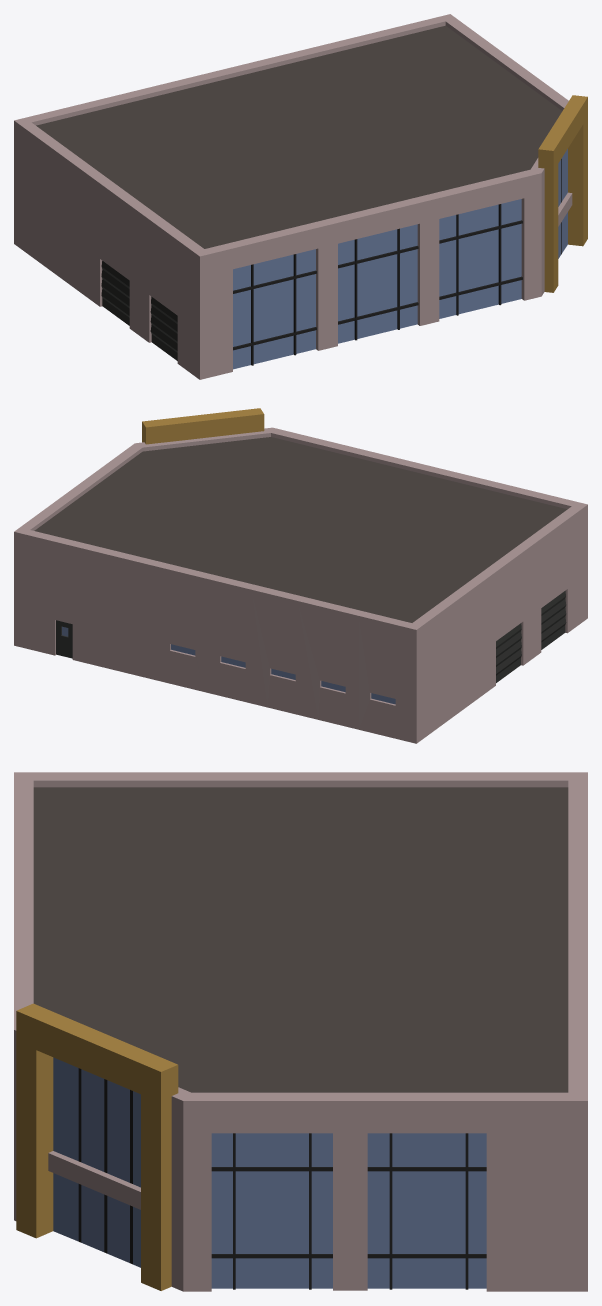
Rendered from Supermarket_04.fbx.
3 views of the same model, one above another, from view 1: azimuth 30°, elevation 25°; view 2: azimuth 150°, elevation 25°; view 3: azimuth 270°, elevation 25° (orthographic). The views are drawn at different scales.
Parts seen in each view (by area): view 1: Supermarket_04; view 2: Supermarket_04; view 3: Supermarket_04.
Boxes of the visible parts, x1,y1,x2,y2 form: Supermarket_04: (14, 14, 587, 379); Supermarket_04: (14, 408, 587, 743); Supermarket_04: (14, 772, 587, 1291).
Size of the model in its own units: 26.55 by 8.25 by 19.58.
